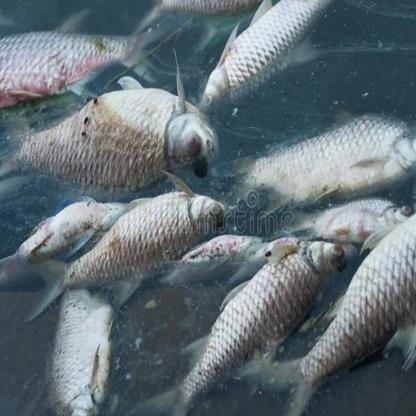deceased fish: (245, 188, 416, 408), (136, 239, 341, 416), (25, 189, 231, 320), (14, 78, 222, 184), (195, 3, 376, 113), (239, 108, 416, 196), (1, 29, 172, 106), (42, 289, 111, 416)
